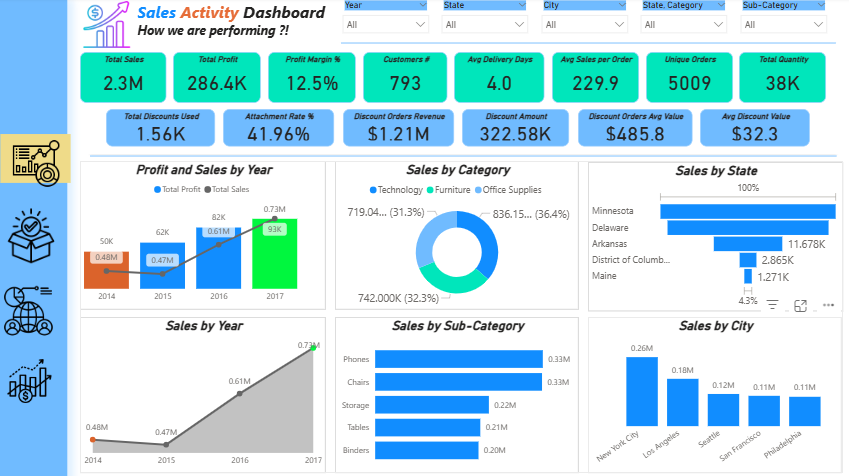

Layout of this report page (visuals, bound fields, positions):
{"tool":"powerbi","page":{"name":"Summary Analysis","canvas":[1280,720],"ordinal":0},"visuals":[{"type":"shape","box":[0,0,105.3,720],"z":0},{"type":"lineStackedColumnComboChart","title":"Sales and Profit by Year","fields":{"Category":["_Dim - Calendar._Dim Calendar Hierarchy.Year"],"Y":["Sum(Fact - Sales.Sales (After Discount))"],"Y2":["Sum(Fact - Sales.Net Profit)"]},"box":[125.5,215.1,372.7,240.3],"z":1000},{"type":"slicer","fields":{"Values":["Dim - Country.Country"]},"box":[661.4,-0.3,154,62.5],"z":2000,"group":"g2"},{"type":"card","title":"Total Sales","fields":{"Values":["_Key Measures.01. Total Sales"]},"box":[128.4,100.6,135.1,79.8],"z":3000,"group":"g2"},{"type":"slicer","fields":{"Values":["_Dim - Calendar._Dim Calendar Hierarchy.Year"]},"box":[508.8,-0.3,153.7,62.5],"z":4000,"group":"g2"},{"type":"image","box":[0.9,258.9,93.7,92.1],"z":5000},{"type":"donutChart","title":"Sales by Category","fields":{"Y":["Sum(Fact - Sales.Sales (After Discount))"],"Category":["Dim - Category.Category"]},"box":[508.8,216,372.7,240.3],"z":6000},{"type":"slicer","fields":{"Values":["Dim - City.City"]},"box":[815.4,-0.3,154,61.3],"z":7000,"group":"g2"},{"type":"image","box":[4,557.4,87.3,79.4],"z":8000},{"type":"image","box":[0,110.3,115,97.1],"z":8750,"group":"g1"},{"type":"image","box":[10,125.2,96.7,82.2],"z":8875,"group":"g1"},{"type":"slicer","fields":{"Values":["Dim - Sub-Category.Sub-Category"]},"box":[1123.4,-0.3,154,61.3],"z":9000,"group":"g2"},{"type":"textbox","box":[204.4,2.5,304.9,84.2],"z":10000,"group":"g2"},{"type":"image","box":[5.2,411.8,85,89],"z":11000},{"type":"slicer","fields":{"Values":["Dim - Category.Category"]},"box":[969.4,-0.3,154,61.3],"z":12000,"group":"g2"},{"type":"image","box":[123.5,2.5,80.9,86],"z":13000,"group":"g2"},{"type":"funnel","title":"Top 5 Countries by Sales","fields":{"Category":["Dim - Country.Country"],"Y":["Sum(Fact - Sales.Sales (After Discount))"]},"box":[892.5,217.6,372.7,239.6],"z":14000},{"type":"group","id":"g1","title":"Group 5","box":[0,110.3,115.6,97],"z":15000},{"type":"card","title":"Total Cost","fields":{"Values":["_Key Measures.02. Cost of Goods Sold (COGS)"]},"box":[269.7,100.6,138.2,80.3],"z":16000,"group":"g2"},{"type":"shape","box":[125.5,195.7,1138.3,13.4],"z":17000,"group":"g2"},{"type":"areaChart","title":"Sales Running Total by Year","fields":{"Y":["_Key Measures.15. Sales Running Total (RT_)"],"Category":["_Dim - Calendar._Dim Calendar Hierarchy.Year","_Dim - Calendar._Dim Calendar Hierarchy.Quarter","_Dim - Calendar._Dim Calendar Hierarchy.Month No.","_Dim - Calendar._Dim Calendar Hierarchy.Mnonth Name","_Dim - Calendar._Dim Calendar Hierarchy.Week No. Monthly"]},"box":[125.5,467.5,373,239.6],"z":18000},{"type":"shape","box":[507.9,74.7,773,15],"z":19000,"group":"g2"},{"type":"clusteredBarChart","title":"Top 5 Sub-Categories by Sales","fields":{"Category":["Dim - Sub-Category.Sub-Category"],"Y":["Sum(Fact - Sales.Sales (After Discount))"]},"box":[508.1,468.4,372.7,239.6],"z":20000},{"type":"card","title":"Net Profit","fields":{"Values":["_Key Measures.03. Net Profit Value"]},"box":[414,100.6,136.6,80.3],"z":21000,"group":"g2"},{"type":"columnChart","title":"Top 5 Cities by Sales","fields":{"Y":["Sum(Fact - Sales.Sales (After Discount))"],"Category":["Dim - City.City"]},"box":[891.8,469,373.4,239],"z":22000},{"type":"card","title":"Total Quantity","fields":{"Values":["_Key Measures.10 Total Quantity"]},"box":[1127.8,100.6,136.6,80.3],"z":23000,"group":"g2"},{"type":"card","title":"Transaction AVG.","fields":{"Values":["_Key Measures.09. Transaction Avg"]},"box":[986.5,100.6,135.1,80.3],"z":24000,"group":"g2"},{"type":"card","title":"Gross Margin %","fields":{"Values":["_Key Measures.04. Gross Margin % (GM %)"]},"box":[556.7,100.6,133.5,80.3],"z":25000,"group":"g2"},{"type":"card","title":"Customer #","fields":{"Values":["_Key Measures.06. Unique Customers"]},"box":[696.4,100.6,141.2,80.3],"z":26000,"group":"g2"},{"type":"card","title":"Unique Orders","fields":{"Values":["_Key Measures.08. Unique Orders"]},"box":[843.8,100.6,136.6,80.3],"z":27000,"group":"g2"},{"type":"group","id":"g2","title":"Group 1","box":[123.5,-0.3,1157.4,209.5],"z":27001}]}

Visuals, with their boxes on the page's 1280x720 design canvas (x1, y1, x2, y2). These are canvas units, not pixel positions in the 849x476 screenshot, which may show the page scaled, cropped or inside an application window:
shape: [x1=0, y1=0, x2=105, y2=720]
"Sales and Profit by Year" lineStackedColumnComboChart: [x1=126, y1=215, x2=498, y2=455]
slicer - Dim - Country.Country: [x1=661, y1=0, x2=815, y2=62]
"Total Sales" card: [x1=128, y1=101, x2=264, y2=180]
slicer - _Dim - Calendar._Dim Calendar Hierarchy.Year: [x1=509, y1=0, x2=662, y2=62]
image: [x1=1, y1=259, x2=95, y2=351]
"Sales by Category" donutChart: [x1=509, y1=216, x2=882, y2=456]
slicer - Dim - City.City: [x1=815, y1=0, x2=969, y2=61]
image: [x1=4, y1=557, x2=91, y2=637]
image: [x1=0, y1=110, x2=115, y2=207]
image: [x1=10, y1=125, x2=107, y2=207]
slicer - Dim - Sub-Category.Sub-Category: [x1=1123, y1=0, x2=1277, y2=61]
textbox: [x1=204, y1=2, x2=509, y2=87]
image: [x1=5, y1=412, x2=90, y2=501]
slicer - Dim - Category.Category: [x1=969, y1=0, x2=1123, y2=61]
image: [x1=124, y1=2, x2=204, y2=88]
"Top 5 Countries by Sales" funnel: [x1=892, y1=218, x2=1265, y2=457]
"Group 5" group: [x1=0, y1=110, x2=116, y2=207]
"Total Cost" card: [x1=270, y1=101, x2=408, y2=181]
shape: [x1=126, y1=196, x2=1264, y2=209]
"Sales Running Total by Year" areaChart: [x1=126, y1=468, x2=498, y2=707]
shape: [x1=508, y1=75, x2=1281, y2=90]
"Top 5 Sub-Categories by Sales" clusteredBarChart: [x1=508, y1=468, x2=881, y2=708]
"Net Profit" card: [x1=414, y1=101, x2=551, y2=181]
"Top 5 Cities by Sales" columnChart: [x1=892, y1=469, x2=1265, y2=708]
"Total Quantity" card: [x1=1128, y1=101, x2=1264, y2=181]
"Transaction AVG." card: [x1=986, y1=101, x2=1122, y2=181]
"Gross Margin %" card: [x1=557, y1=101, x2=690, y2=181]
"Customer #" card: [x1=696, y1=101, x2=838, y2=181]
"Unique Orders" card: [x1=844, y1=101, x2=980, y2=181]
"Group 1" group: [x1=124, y1=0, x2=1281, y2=209]
